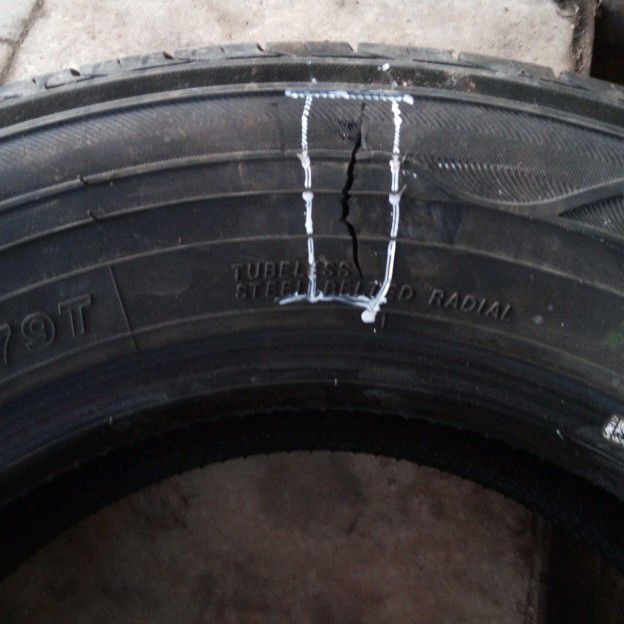cut: (335, 101, 371, 296)
